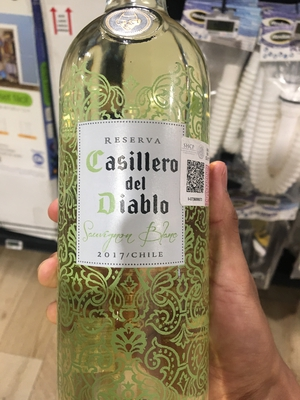casillero del diablo sauvignon blanc: (50, 9, 218, 400)
